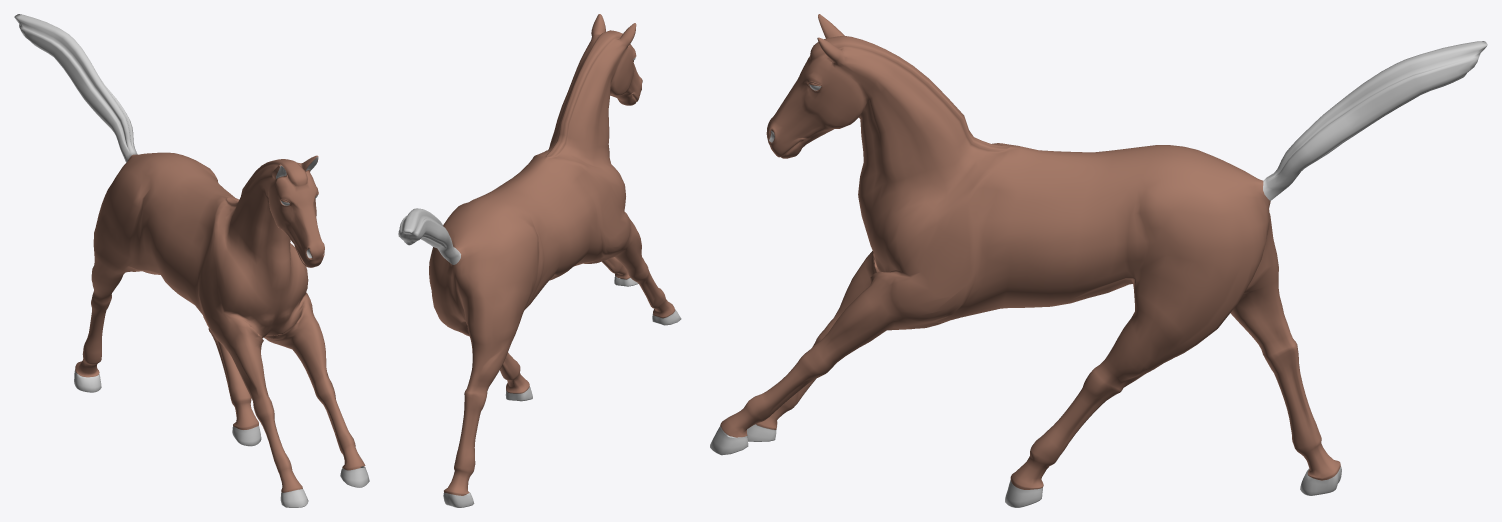
File: horse_obj_22.obj
3 renders of one model, left to right at view 1: azimuth 30°, elevation 25°; view 2: azimuth 150°, elevation 25°; view 3: azimuth 270°, elevation 25°, orthographic. The views are drawn at different scales.
Visible parts, largest first — view 1: Figure_1; view 2: Figure_1; view 3: Figure_1.
Boxes of the visible parts, box(x1,y1,x2,y2) form: Figure_1: box(14, 14, 369, 507); Figure_1: box(398, 14, 681, 507); Figure_1: box(710, 14, 1487, 507).
Bounding box in the file's own units: 0.2421 × 0.8612 × 1.26.
